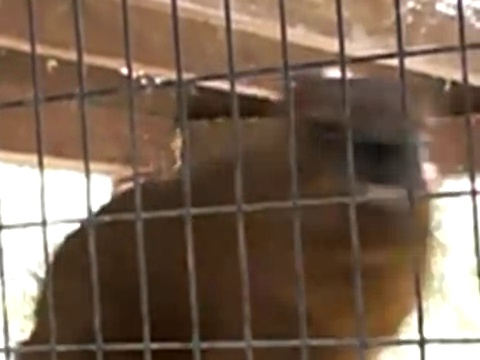Rock Hyrex: (34, 130, 438, 360)
